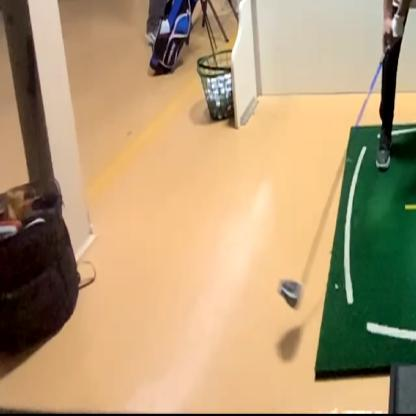GolfBall: (278, 264, 306, 318)
